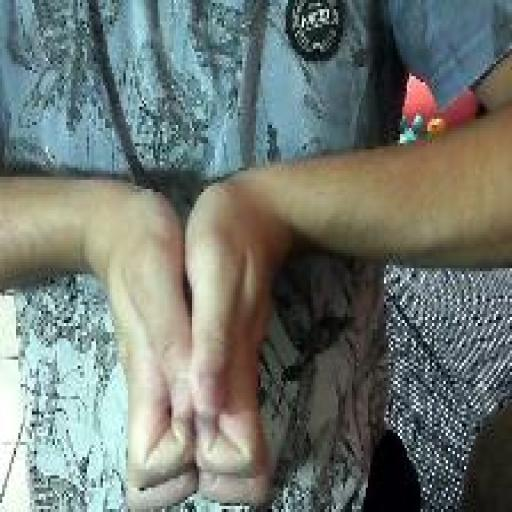I -boar-: (100, 167, 274, 512)
